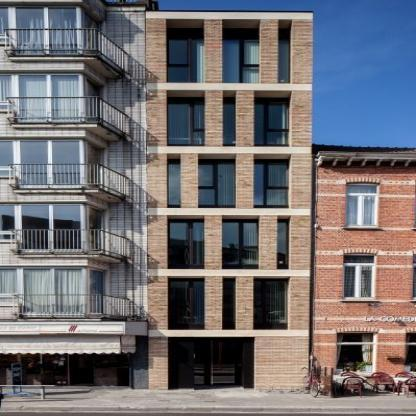Balcony: (168, 337, 254, 390)
Building Outline: (146, 10, 313, 390)
Door: (178, 343, 242, 387)
Facade: (146, 11, 313, 391)
Floor Slab: (146, 83, 312, 90), (146, 147, 312, 154), (147, 208, 311, 215), (147, 269, 310, 276), (148, 330, 309, 337)
Window: (222, 19, 261, 83), (166, 19, 204, 83), (253, 90, 292, 146), (253, 153, 292, 208), (167, 90, 205, 146), (198, 153, 236, 208), (222, 215, 260, 269), (167, 215, 204, 269), (253, 276, 290, 330), (168, 276, 204, 330), (222, 39, 260, 83), (222, 222, 259, 265), (168, 38, 203, 83), (168, 281, 204, 323), (169, 222, 204, 265), (253, 165, 289, 206), (199, 165, 235, 206), (253, 281, 288, 323), (253, 104, 289, 144), (168, 104, 203, 145), (278, 20, 292, 84), (222, 90, 236, 146), (277, 215, 291, 269), (167, 153, 180, 208), (223, 276, 236, 330), (278, 39, 290, 83), (223, 104, 236, 144), (223, 281, 235, 323), (168, 165, 180, 205), (277, 222, 288, 265)
